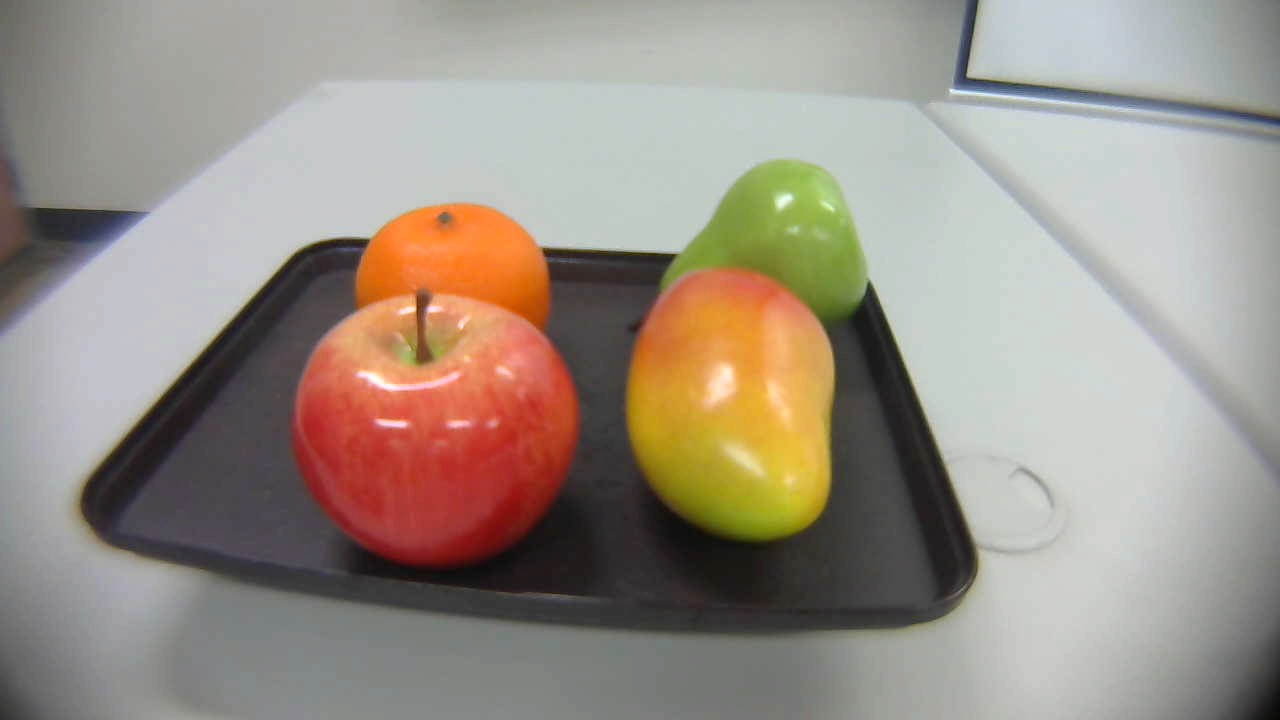green pear: (630, 156, 875, 348)
orange: (320, 196, 570, 354)
red apple: (288, 289, 587, 576)
red mango: (623, 266, 845, 551)
